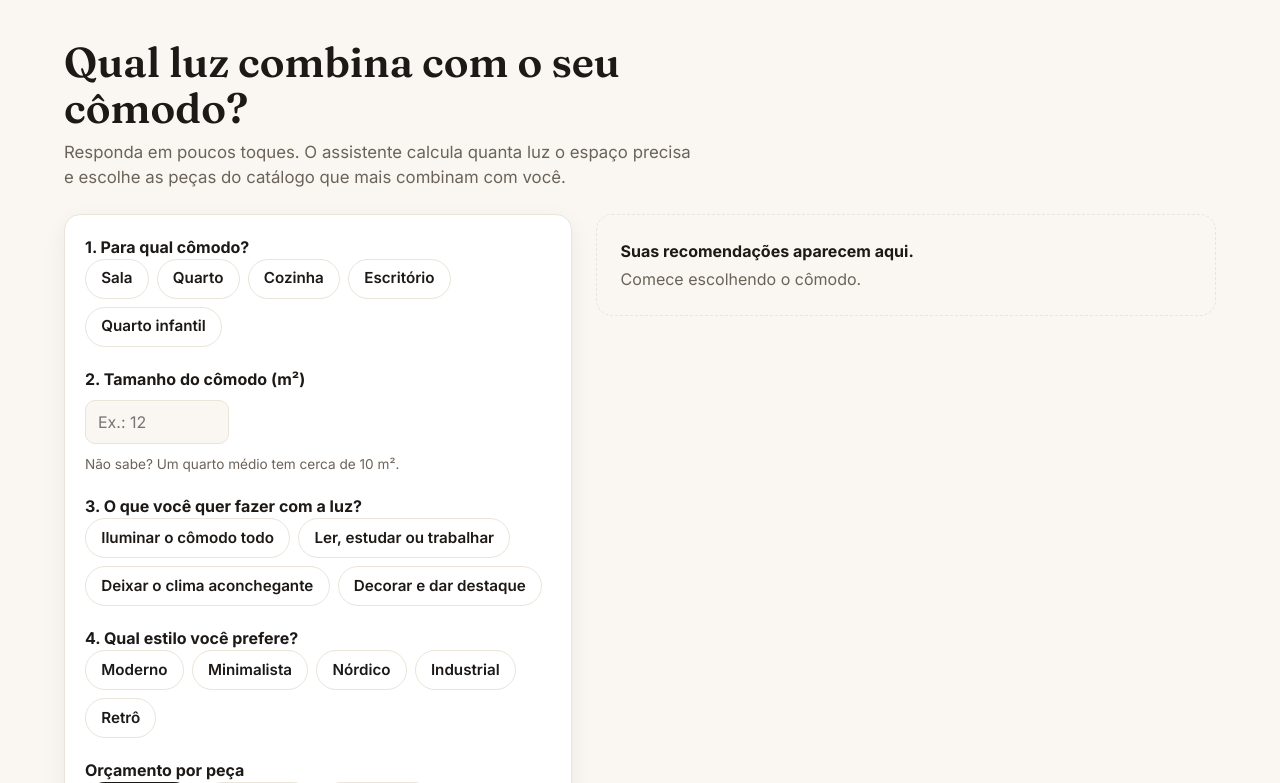
pagina Assistente › recomenda o produto do cômodo escolhido e calcula os lúmens
Click the button "Escritório" at [399, 279], box [348, 259, 451, 299]
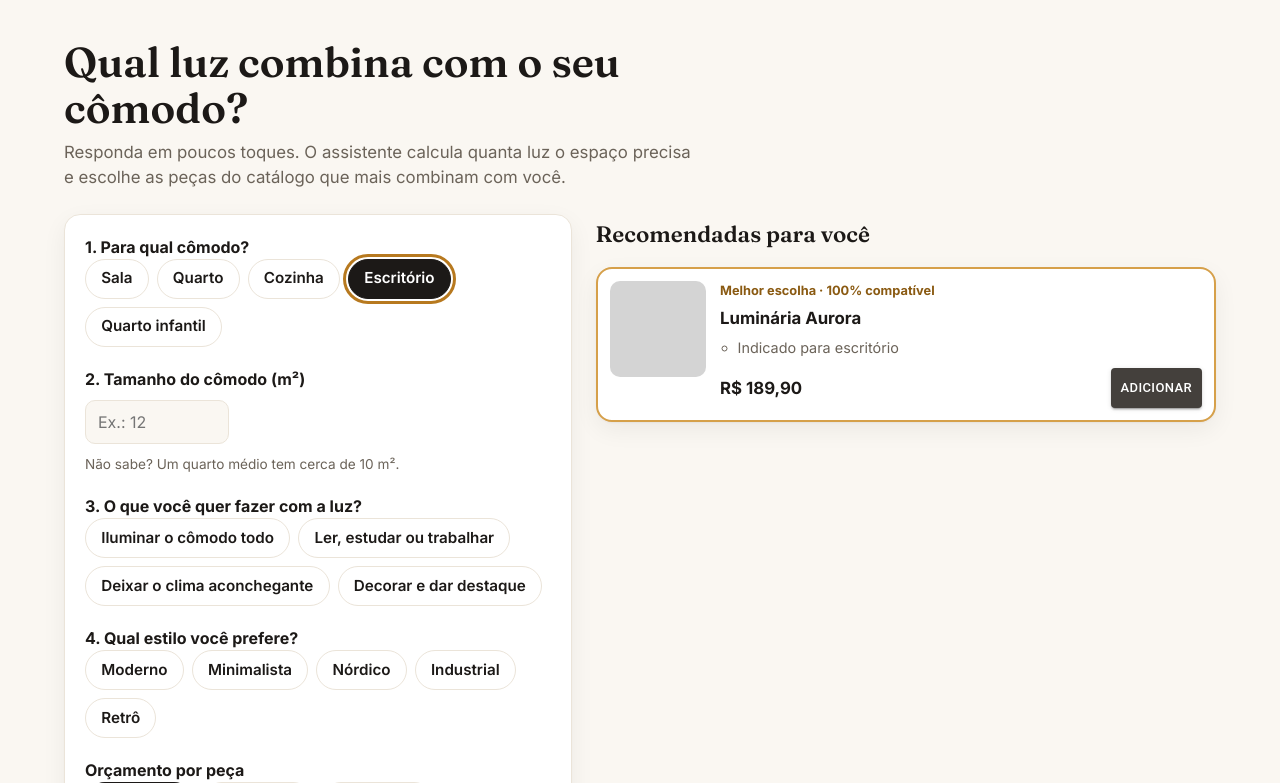
Type "9" into the number field labelled "2. Tamanho do cômodo (m²)" at [157, 422], box [85, 400, 229, 444]
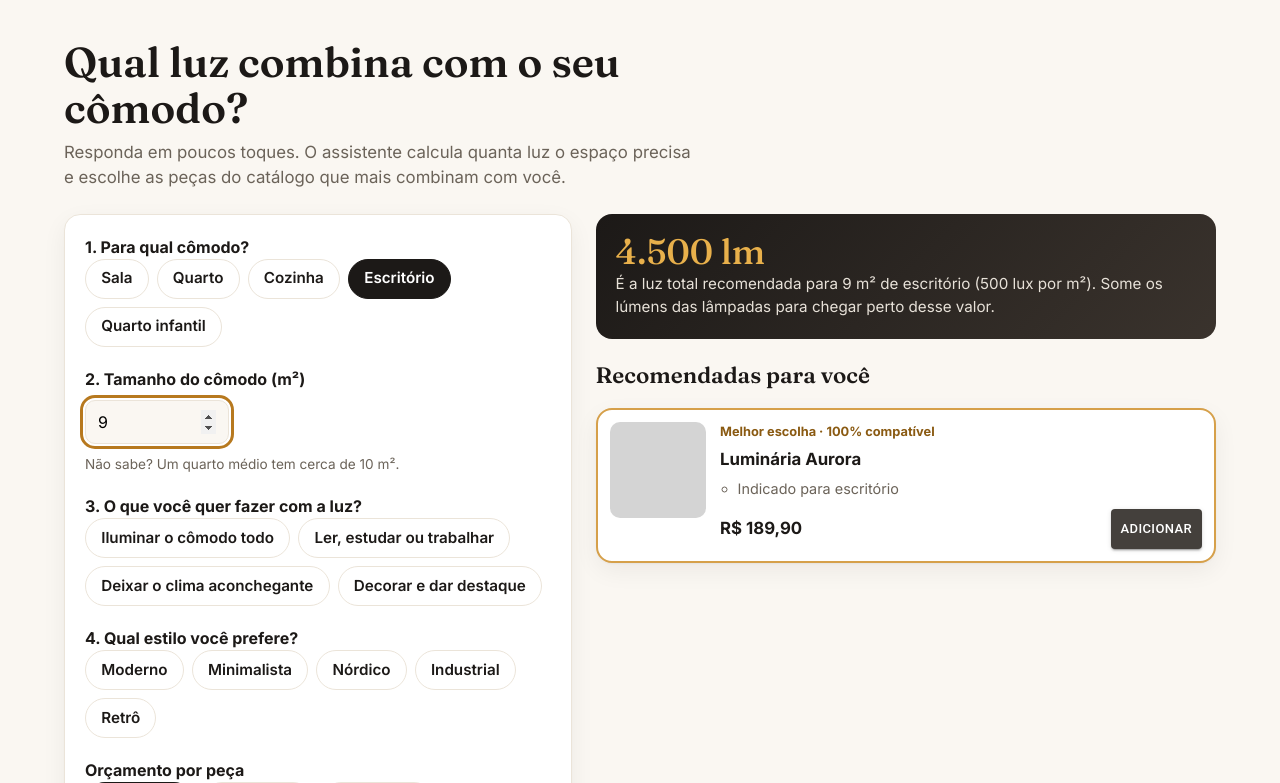
Now the link "Luminária Aurora" is shown, box [720, 449, 861, 469]
Now the text "4.500 lm" is shown, box [616, 230, 765, 273]
